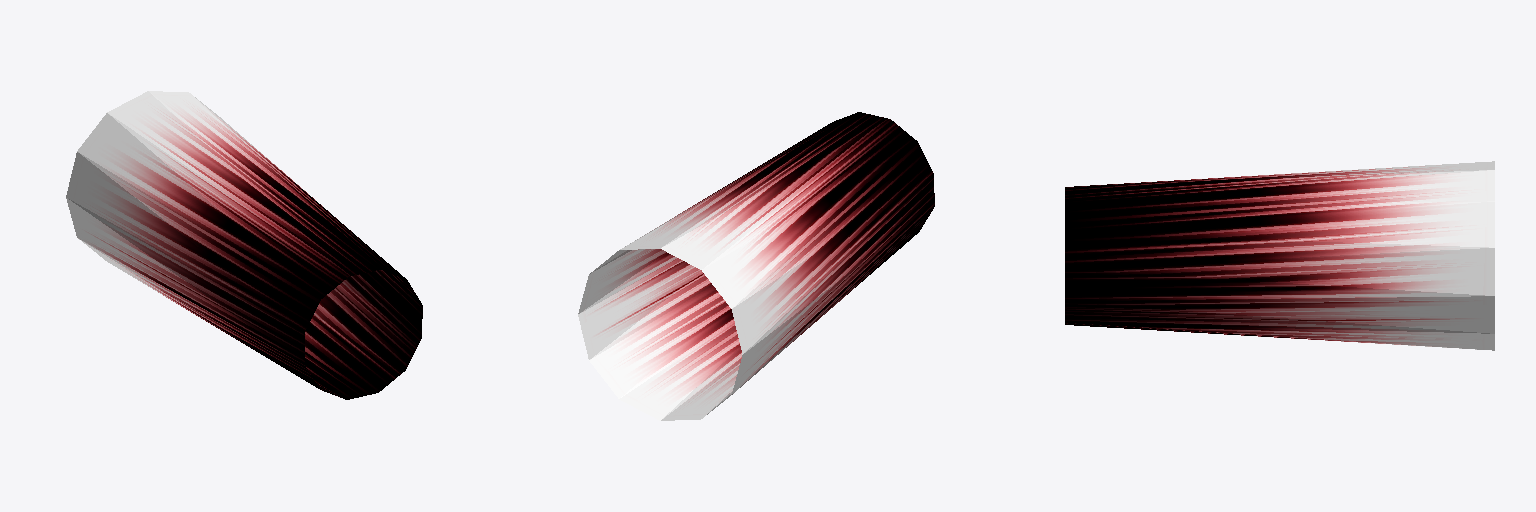
The picture shows the model from 3 angles: view 1: azimuth 30°, elevation 25°; view 2: azimuth 150°, elevation 25°; view 3: azimuth 270°, elevation 25°; orthographic projection.
Parts seen in each view (by area): view 1: Cylinder001; view 2: Cylinder001; view 3: Cylinder001.
Boxes of the visible parts, x1,y1,x2,y2 form: Cylinder001: [66, 91, 422, 399]; Cylinder001: [578, 112, 934, 420]; Cylinder001: [1065, 161, 1494, 350].
Size of the model in its own units: 32.5 by 32.5 by 73.66.
1 materials, 1 textured.